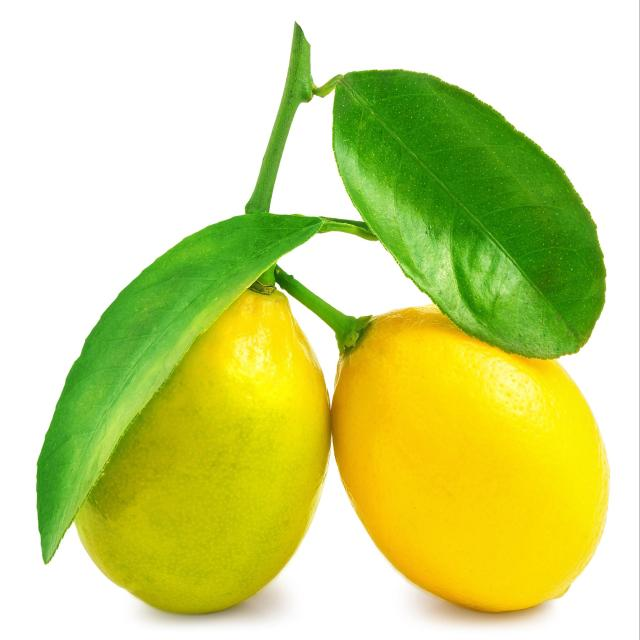lemon: (30, 9, 624, 634)
